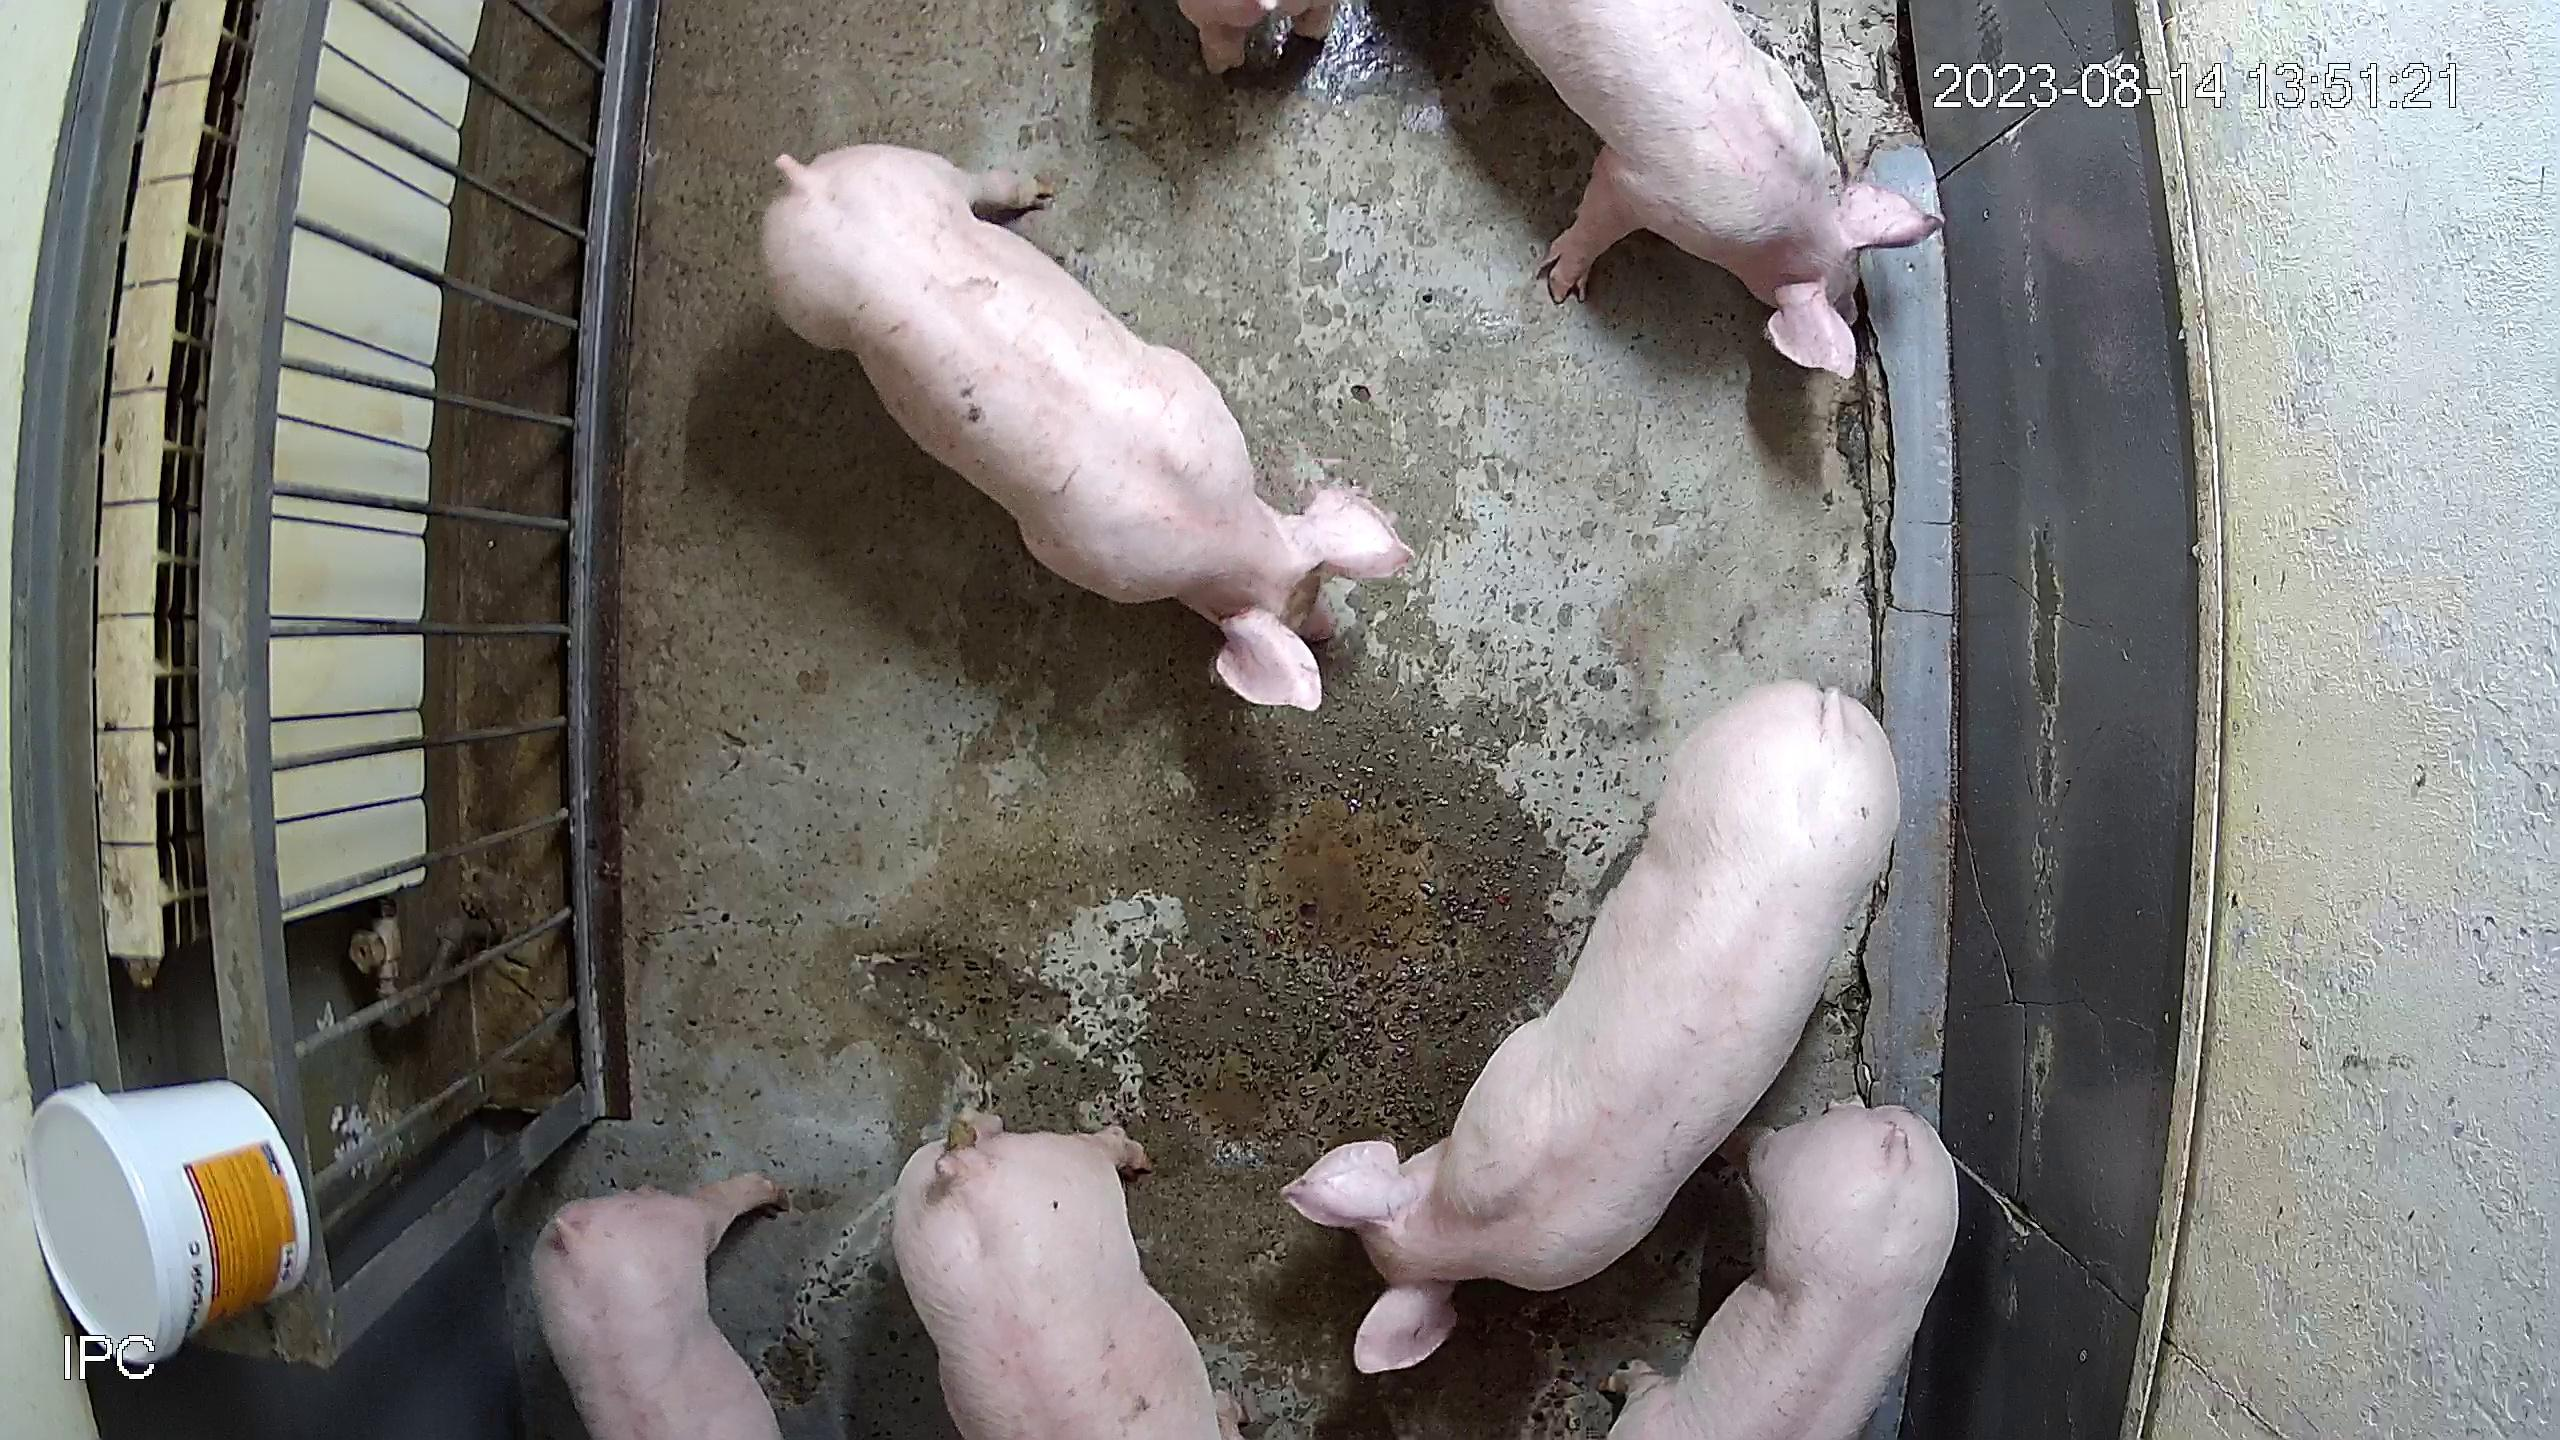Pig: (1285, 680, 1902, 1370), (761, 141, 1412, 707), (1498, 0, 1943, 375), (1611, 1104, 1960, 1440), (893, 1113, 1225, 1440), (529, 1173, 782, 1440), (1178, 0, 1338, 70)
